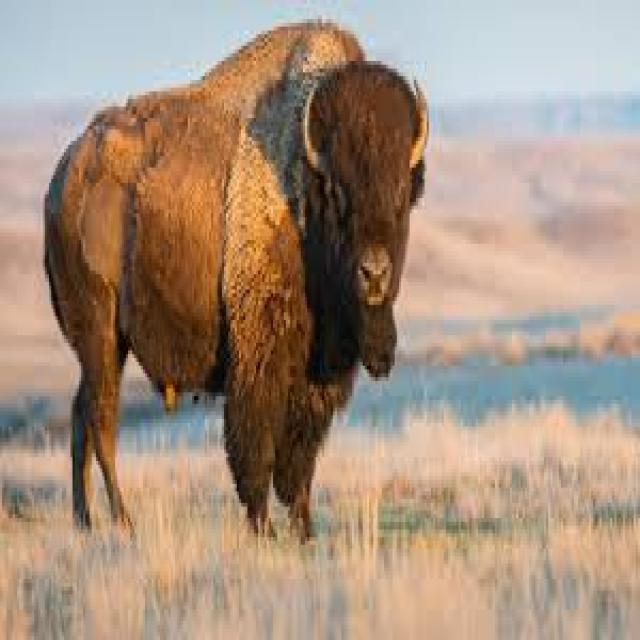Bison: (32, 12, 444, 559)
